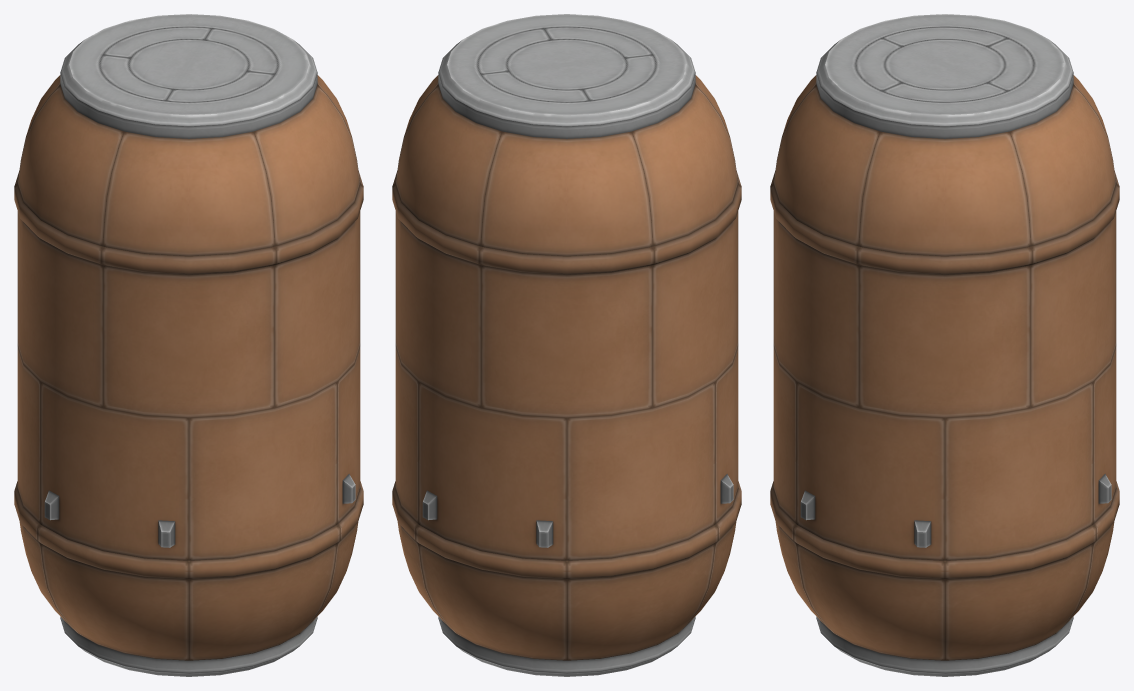
File: Mira_Crew_1.obj
3 renders of one model, left to right at view 1: azimuth 30°, elevation 25°; view 2: azimuth 150°, elevation 25°; view 3: azimuth 270°, elevation 25°, orthographic.
Parts seen in each view (by area): view 1: Mira_Crew_1; view 2: Mira_Crew_1; view 3: Mira_Crew_1.
Boxes of the visible parts, left/top/right/bottom form: Mira_Crew_1: left=14, top=14, right=363, bottom=676; Mira_Crew_1: left=392, top=14, right=741, bottom=676; Mira_Crew_1: left=770, top=14, right=1119, bottom=676.
Bounding box in the file's own units: 1.29 × 2.26 × 1.27.
